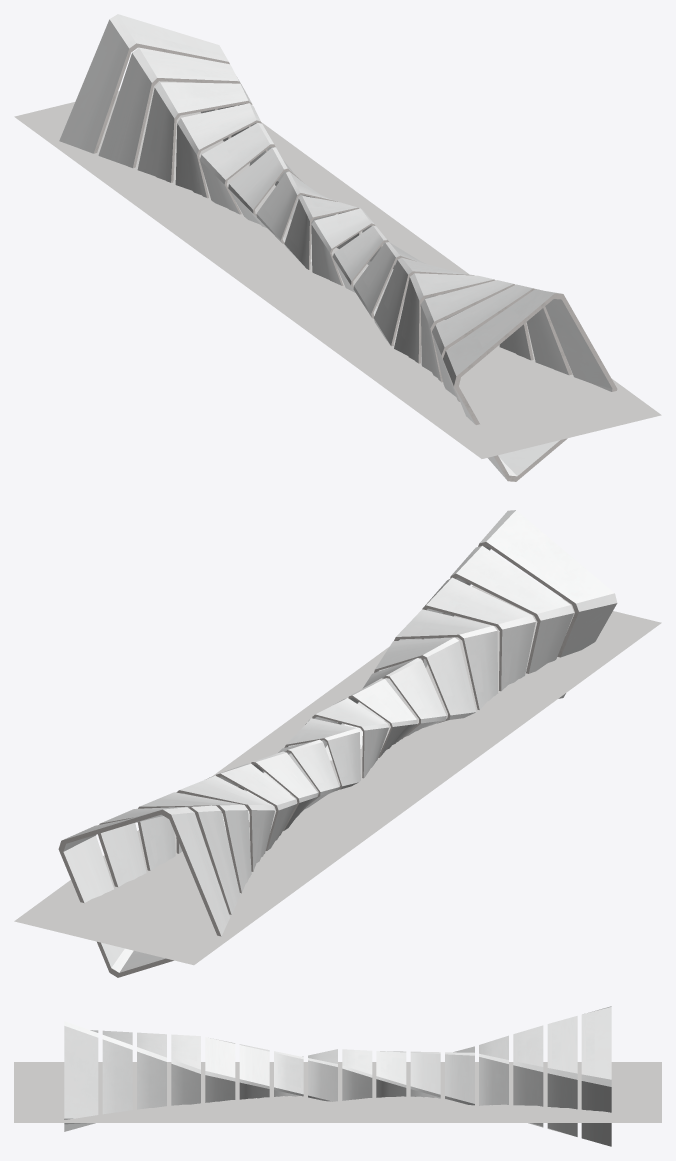
The model's file is Square_Tunnel_01.fbx.
3 renders of one model, top to bottom at view 1: azimuth 30°, elevation 25°; view 2: azimuth 150°, elevation 25°; view 3: azimuth 270°, elevation 25°, orthographic. The views are drawn at different scales.
Visible parts, largest first — view 1: Land1, Wall_01, Wall_16, Wall_15, Wall_14, Wall_02, Wall_13, Wall_03, Wall_12, Wall_04, Wall_08, Wall_11 (+5 smaller); view 2: Land1, Wall_16, Wall_01, Wall_02, Wall_15, Wall_03, Wall_14, Wall_04, Wall_05, Wall_06, Wall_13, Wall_09 (+5 smaller); view 3: Land1, Wall_16, Wall_01, Wall_15, Wall_02, Wall_14, Wall_03, Wall_04, Wall_13, Wall_05, Wall_06, Wall_12 (+5 smaller).
Part boxes in pixels (x1,y1,x2,y2): Land1: [14, 81, 661, 458]; Wall_01: [443, 289, 617, 481]; Wall_16: [59, 14, 229, 153]; Wall_15: [98, 47, 242, 168]; Wall_14: [137, 82, 252, 182]; Wall_02: [432, 284, 572, 401]; Wall_13: [175, 103, 267, 198]; Wall_03: [420, 280, 533, 382]; Wall_12: [199, 123, 287, 214]; Wall_04: [394, 273, 495, 363]; Wall_08: [311, 208, 382, 285]; Wall_11: [228, 147, 314, 227]; Land1: [14, 585, 661, 965]; Wall_16: [58, 807, 230, 977]; Wall_01: [453, 510, 617, 698]; Wall_02: [438, 545, 573, 673]; Wall_15: [98, 805, 240, 914]; Wall_03: [421, 577, 535, 691]; Wall_14: [137, 792, 251, 893]; Wall_04: [394, 609, 498, 710]; Wall_05: [374, 637, 476, 723]; Wall_06: [357, 658, 446, 739]; Wall_13: [176, 775, 275, 871]; Wall_09: [284, 718, 360, 789]; Land1: [14, 1062, 661, 1122]; Wall_16: [581, 1006, 611, 1146]; Wall_01: [64, 1021, 98, 1131]; Wall_15: [547, 1016, 577, 1136]; Wall_02: [102, 1030, 132, 1114]; Wall_14: [513, 1025, 543, 1127]; Wall_03: [137, 1032, 166, 1109]; Wall_04: [171, 1034, 200, 1105]; Wall_13: [479, 1035, 508, 1105]; Wall_05: [205, 1037, 235, 1102]; Wall_06: [239, 1044, 269, 1099]; Wall_12: [445, 1046, 474, 1105].
Size of the model in its own units: 4 by 3.81 by 18.
3 materials, 2 textured.
